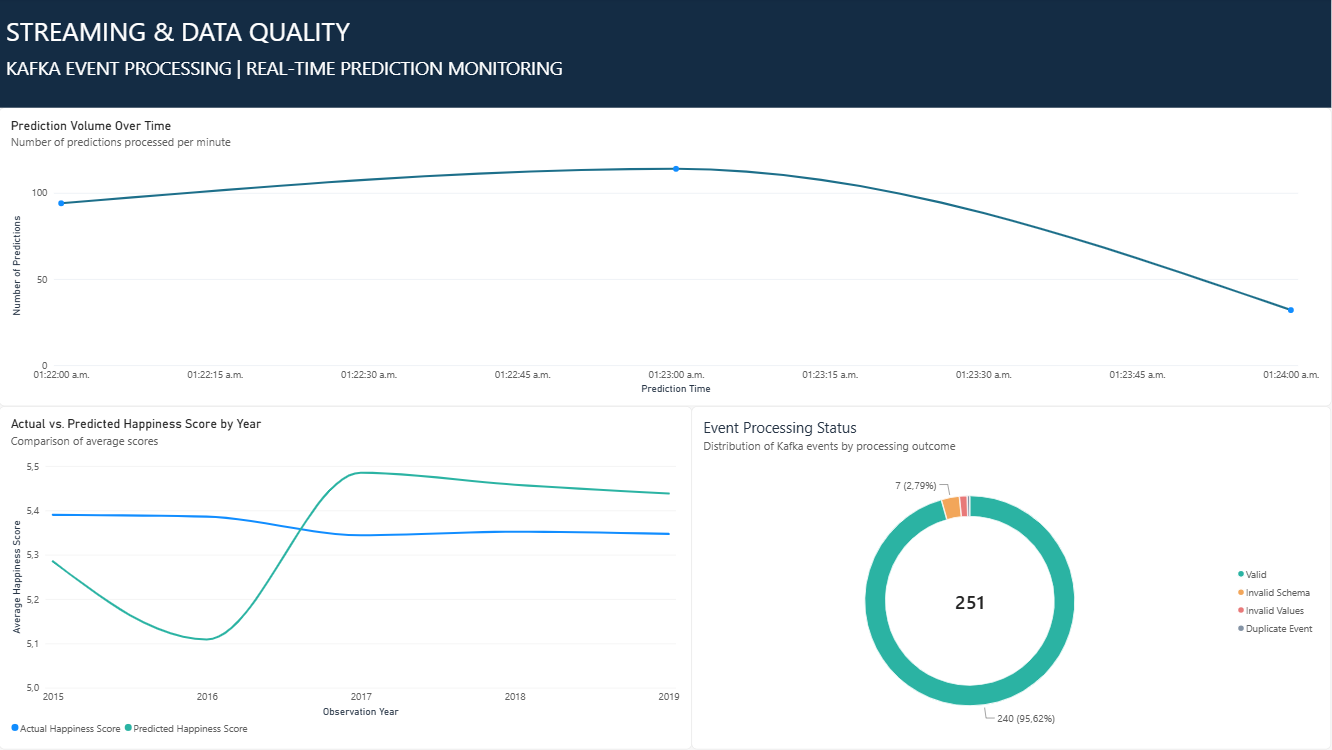

The dashboard page shown, as its layout file describes it:
{"tool":"powerbi","page":{"name":"Streaming & Data Quality","canvas":[1920,1080],"ordinal":1},"visuals":[{"type":"lineChart","title":"Prediction Volume Over Time","fields":{"Category":["public vw_kpi_trend_by_time.prediction_minute"],"Y":["Sum(public vw_kpi_trend_by_time.predictions)"]},"box":[0,155.4,1919.7,430.4],"z":0},{"type":"donutChart","title":"Event Processing Status","fields":{"Category":["public vw_event_quality.Processing Status Label"],"Y":["Sum(public vw_event_quality.events)"]},"box":[998.2,585.7,921.4,494.6],"z":1000},{"type":"lineChart","title":"Actual vs. Predicted Happiness Score by Year","fields":{"Category":["public vw_kpi_trend_by_year.observation_year"],"Y":["Avg(public vw_kpi_trend_by_year.avg_actual_score)","Avg(public vw_kpi_trend_by_year.avg_predicted_score)"]},"box":[0,585.7,998.2,494.6],"z":2000},{"type":"shape","box":[0,0,1919.7,155.4],"z":2001},{"type":"textbox","box":[0,0,1919.7,155.4],"z":2002}]}

Visuals, with their boxes in screenshot pixels (x1, y1, x2, y2), scaled from the page's 1920x1080 canvas onto the 1332x750 screenshot:
"Prediction Volume Over Time" lineChart: [left=0, top=108, right=1331, bottom=407]
"Event Processing Status" donutChart: [left=693, top=407, right=1331, bottom=749]
"Actual vs. Predicted Happiness Score by Year" lineChart: [left=0, top=407, right=693, bottom=749]
shape: [left=0, top=0, right=1331, bottom=108]
textbox: [left=0, top=0, right=1331, bottom=108]
